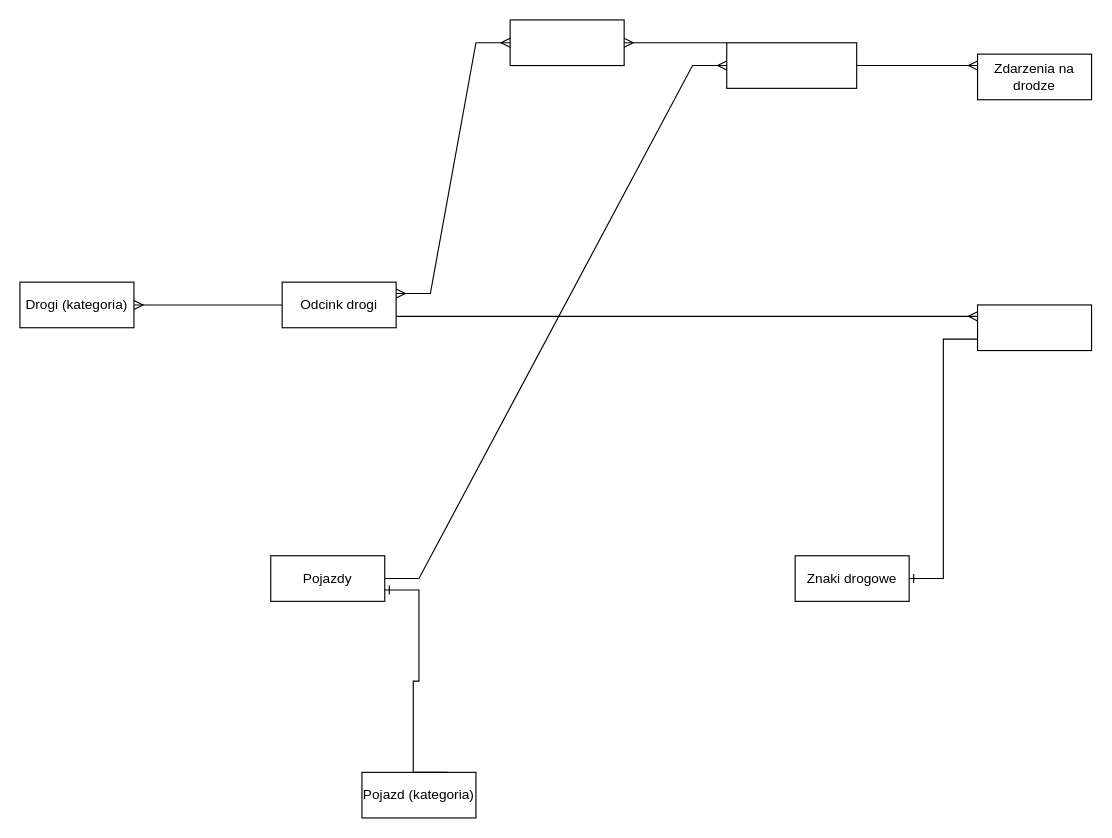
The diagram is 1112 pixels wide and 838 high, and some of its shapes have lost their labels. Each missing label, with the centre of its shape:
Reguły/Zasady: point 1034,327
Trasy: point 791,65
Węzły: point 566,42
